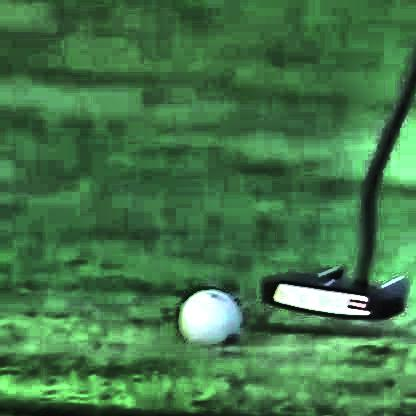golfball: (175, 289, 238, 346)
